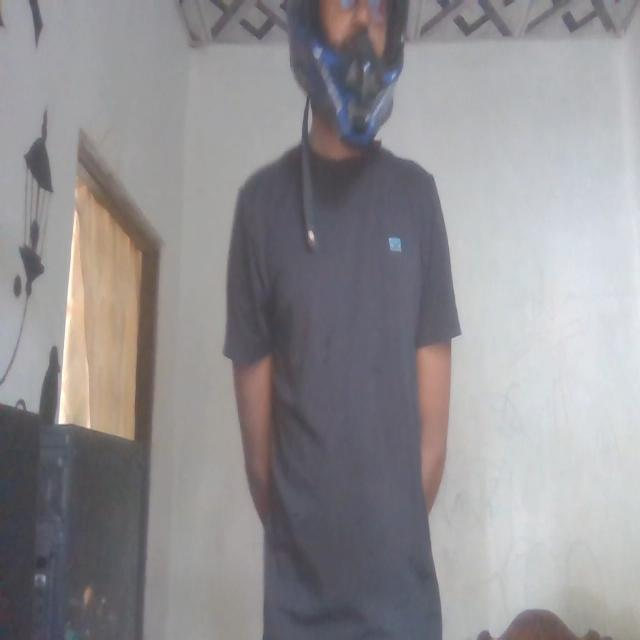Helmet_Wearer: (286, 0, 421, 160)
Person: (224, 0, 456, 640)
